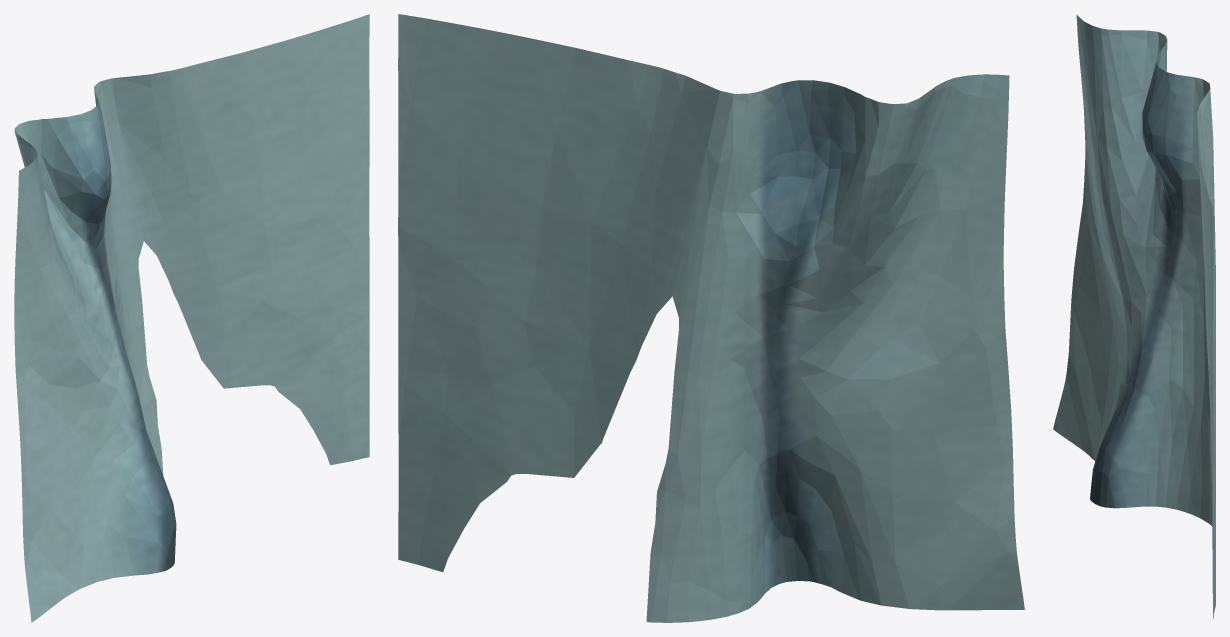
3 renders of one model, left to right at view 1: azimuth 30°, elevation 25°; view 2: azimuth 150°, elevation 25°; view 3: azimuth 270°, elevation 25°, orthographic. The views are drawn at different scales.
Visible parts, largest first — view 1: 091_W_Aya_100K_01; view 2: 091_W_Aya_100K_01; view 3: 091_W_Aya_100K_01.
Part boxes in pixels (bbox=[...]): 091_W_Aya_100K_01: bbox=[14, 14, 369, 622]; 091_W_Aya_100K_01: bbox=[398, 14, 1024, 622]; 091_W_Aya_100K_01: bbox=[1053, 14, 1215, 619].
Size of the model in its own units: 85.74 by 85.74 by 30.46.
1 material, 1 textured.
